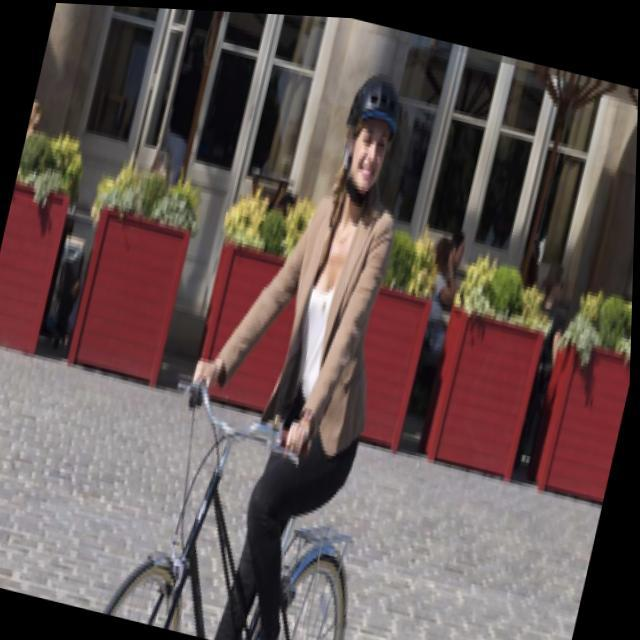Helmet: (336, 69, 409, 202)
